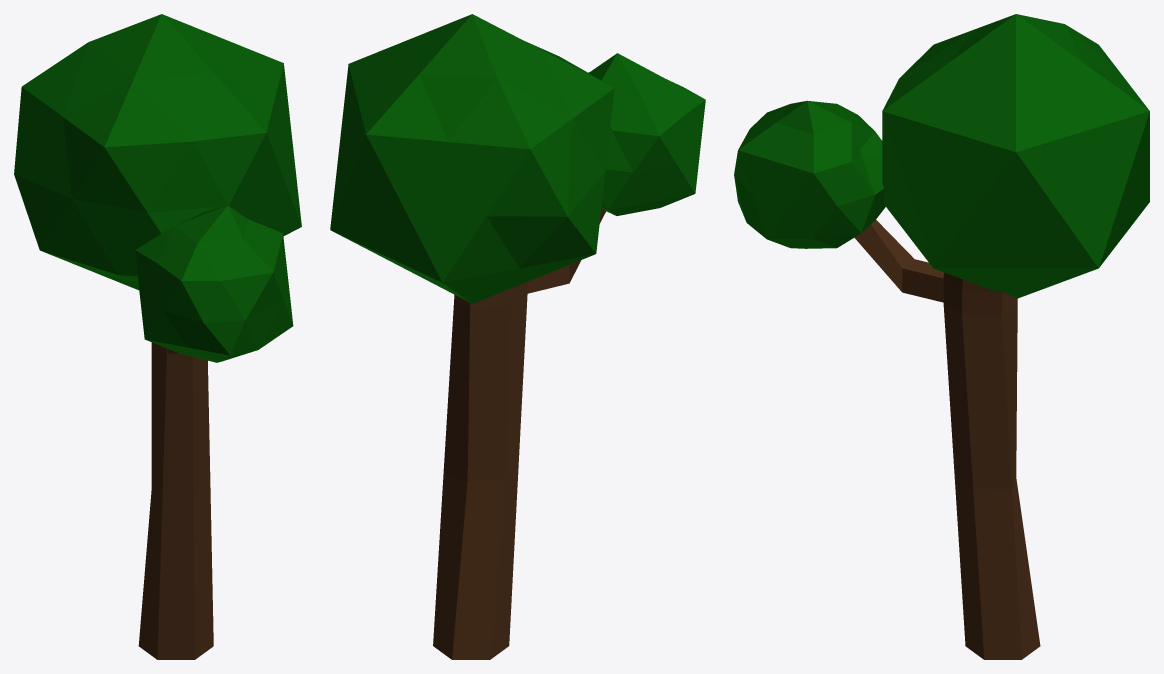
The model's file is Tree2.fbx.
3 renders of one model, left to right at view 1: azimuth 30°, elevation 25°; view 2: azimuth 150°, elevation 25°; view 3: azimuth 270°, elevation 25°, orthographic.
Visible parts, largest first — view 1: Tree; view 2: Tree; view 3: Tree.
Boxes of the visible parts, bbox=[...] form: Tree: bbox=[14, 14, 301, 659]; Tree: bbox=[330, 14, 705, 659]; Tree: bbox=[734, 14, 1149, 659].
Bounding box in the file's own units: 221 × 544 × 326.
